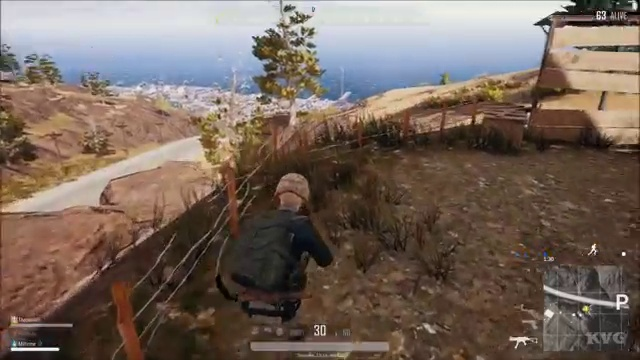Player: (202, 163, 364, 312)
